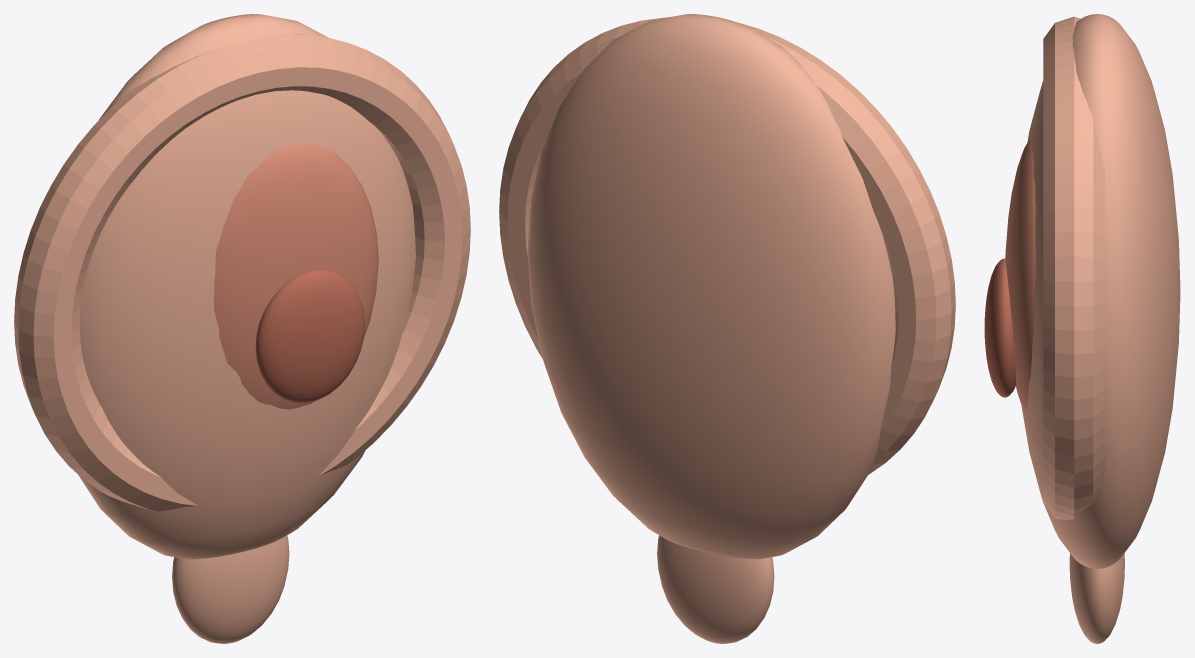
Rendered from oreja.glb.
3 renders of one model, left to right at view 1: azimuth 30°, elevation 25°; view 2: azimuth 150°, elevation 25°; view 3: azimuth 270°, elevation 25°, orthographic.
Visible parts, largest first — view 1: Sphere, Torus.003, Sphere.001, Sphere.002, Sphere.003; view 2: Sphere, Torus.003, Sphere.003; view 3: Sphere, Torus.003, Sphere.001, Sphere.003, Sphere.002.
Boxes of the visible parts, x1,y1,x2,y2 form: Sphere: (78,14,415,559); Torus.003: (14,34,470,511); Sphere.001: (214,143,378,409); Sphere.002: (255,268,364,403); Sphere.003: (172,535,289,643); Sphere: (527,14,895,559); Torus.003: (499,17,955,474); Sphere.003: (657,535,774,643); Sphere: (1021,14,1180,568); Torus.003: (1043,16,1104,519); Sphere.001: (1005,140,1035,410); Sphere.003: (1069,553,1124,643); Sphere.002: (984,258,1016,397).
Bounding box in the file's own units: 1.1 × 1.46 × 0.424.
